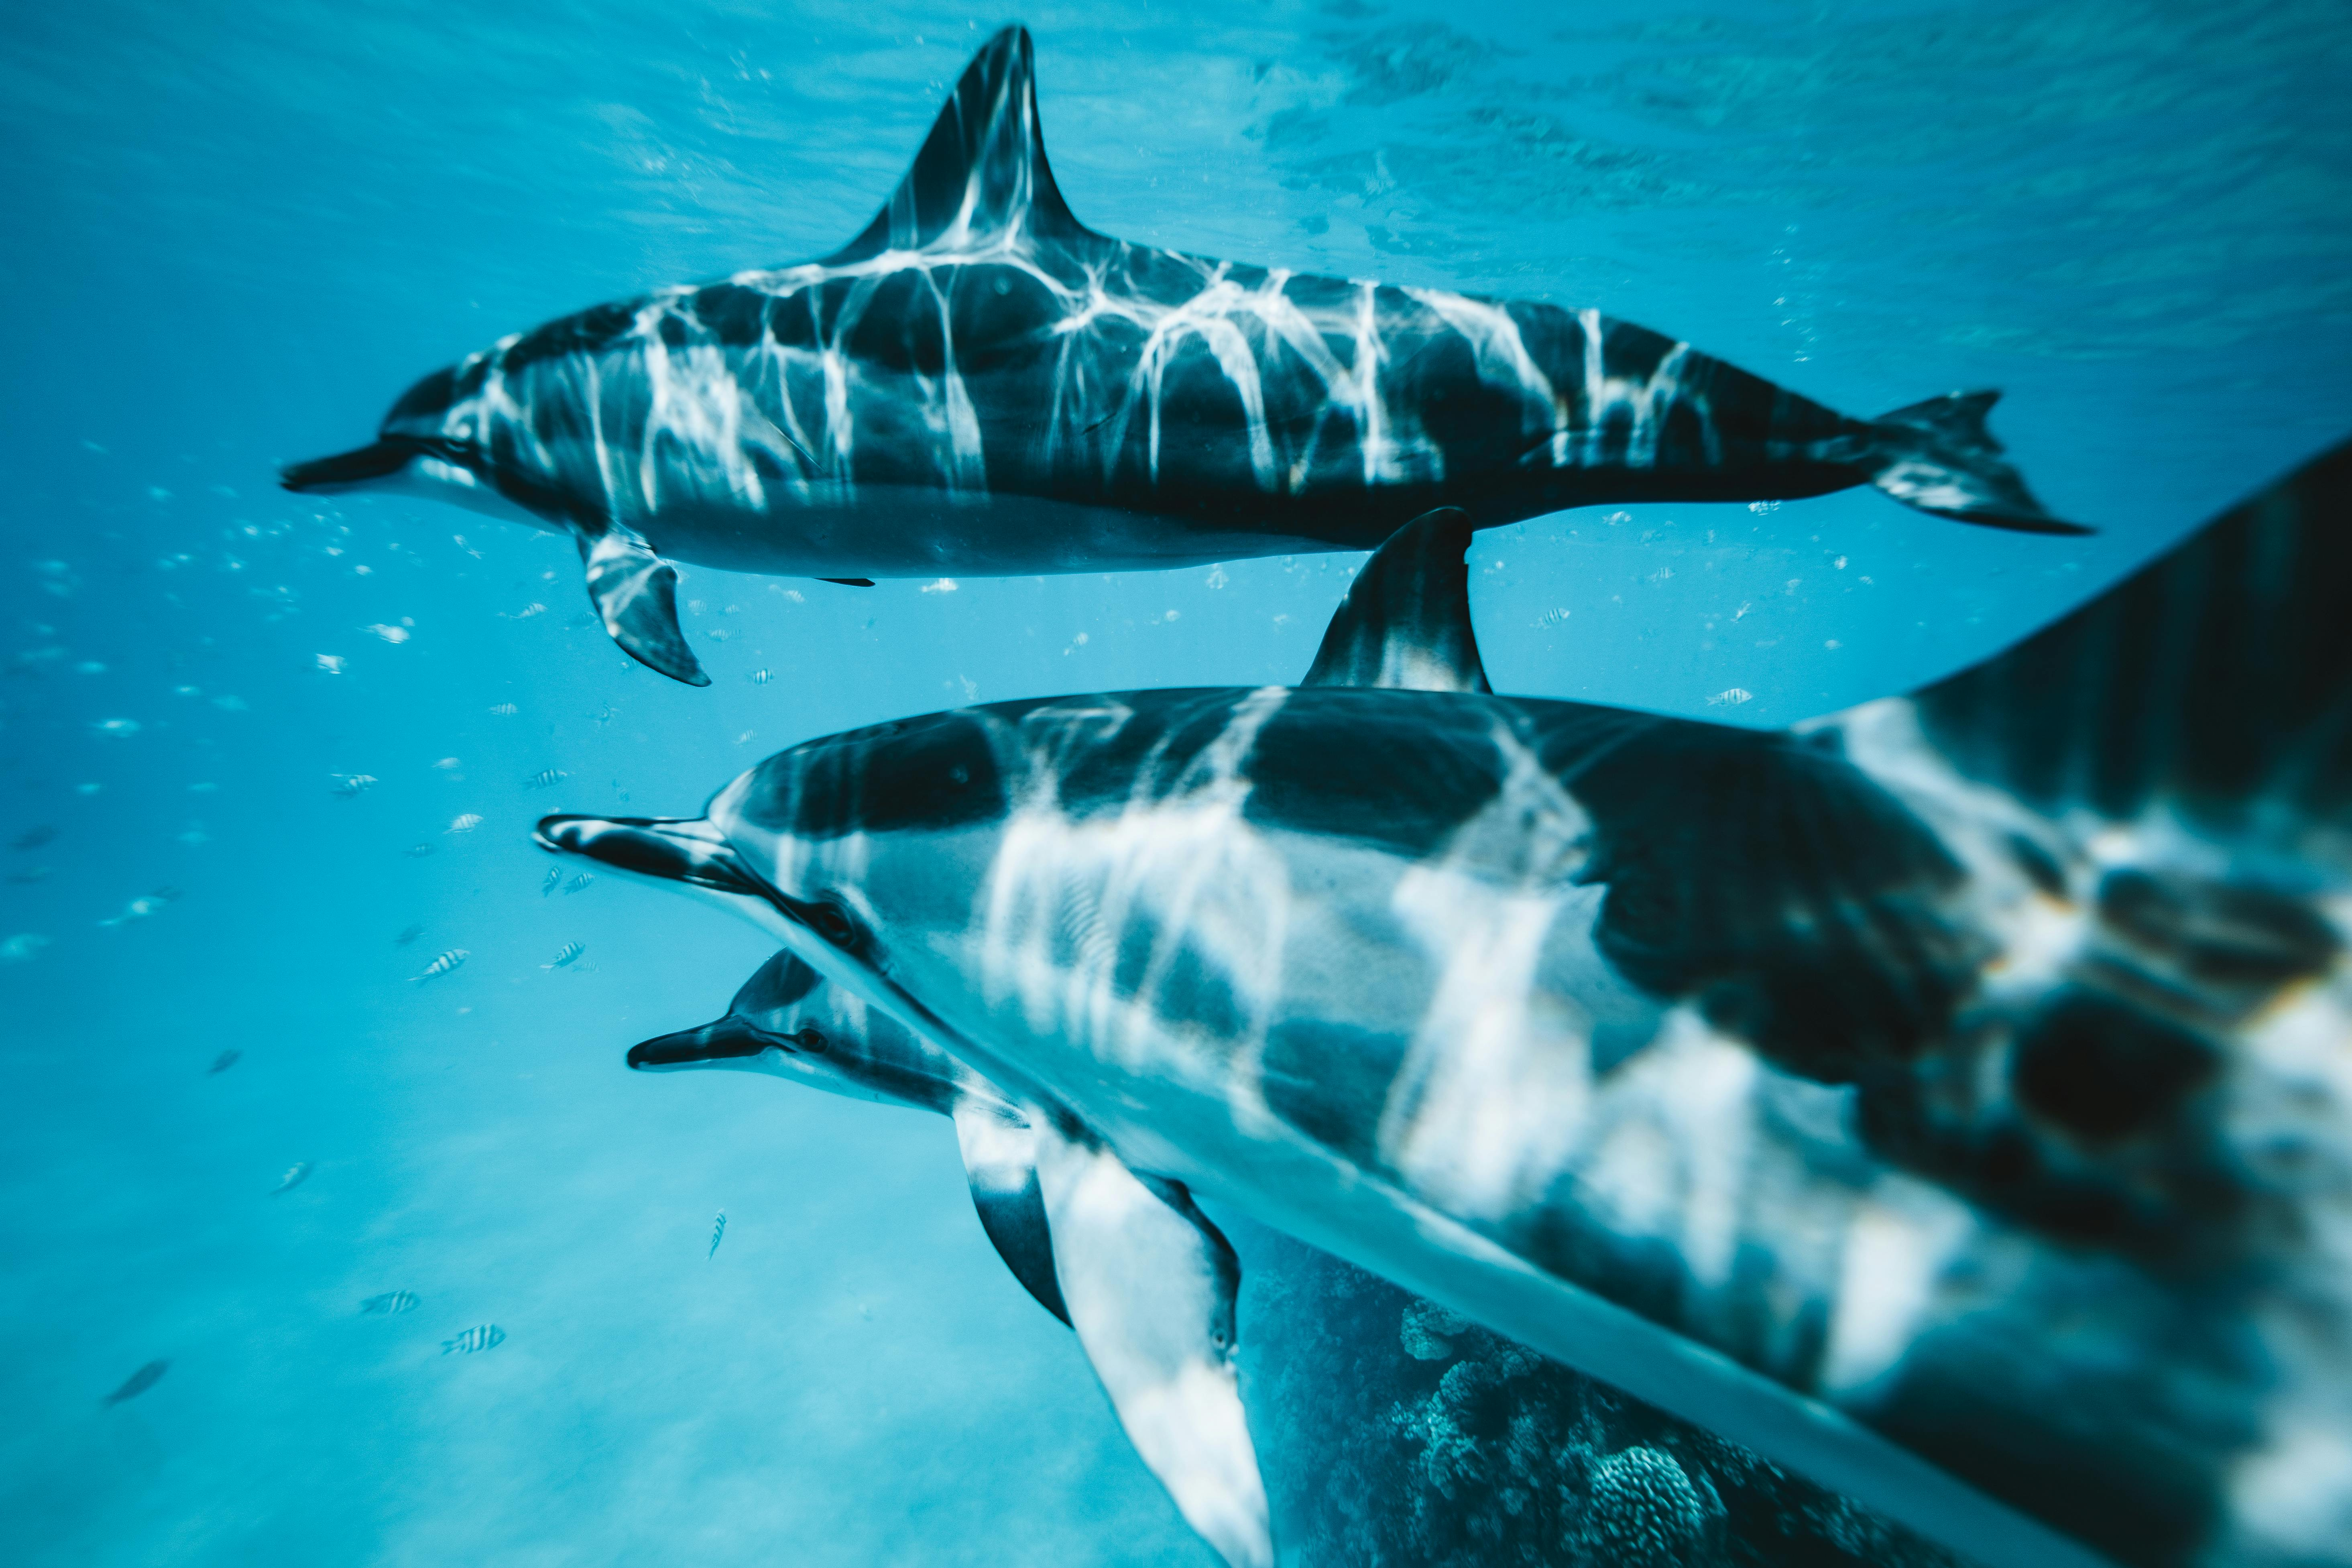dolphin: (525, 506, 2352, 1568), (269, 19, 2089, 689), (616, 940, 1067, 1328)
